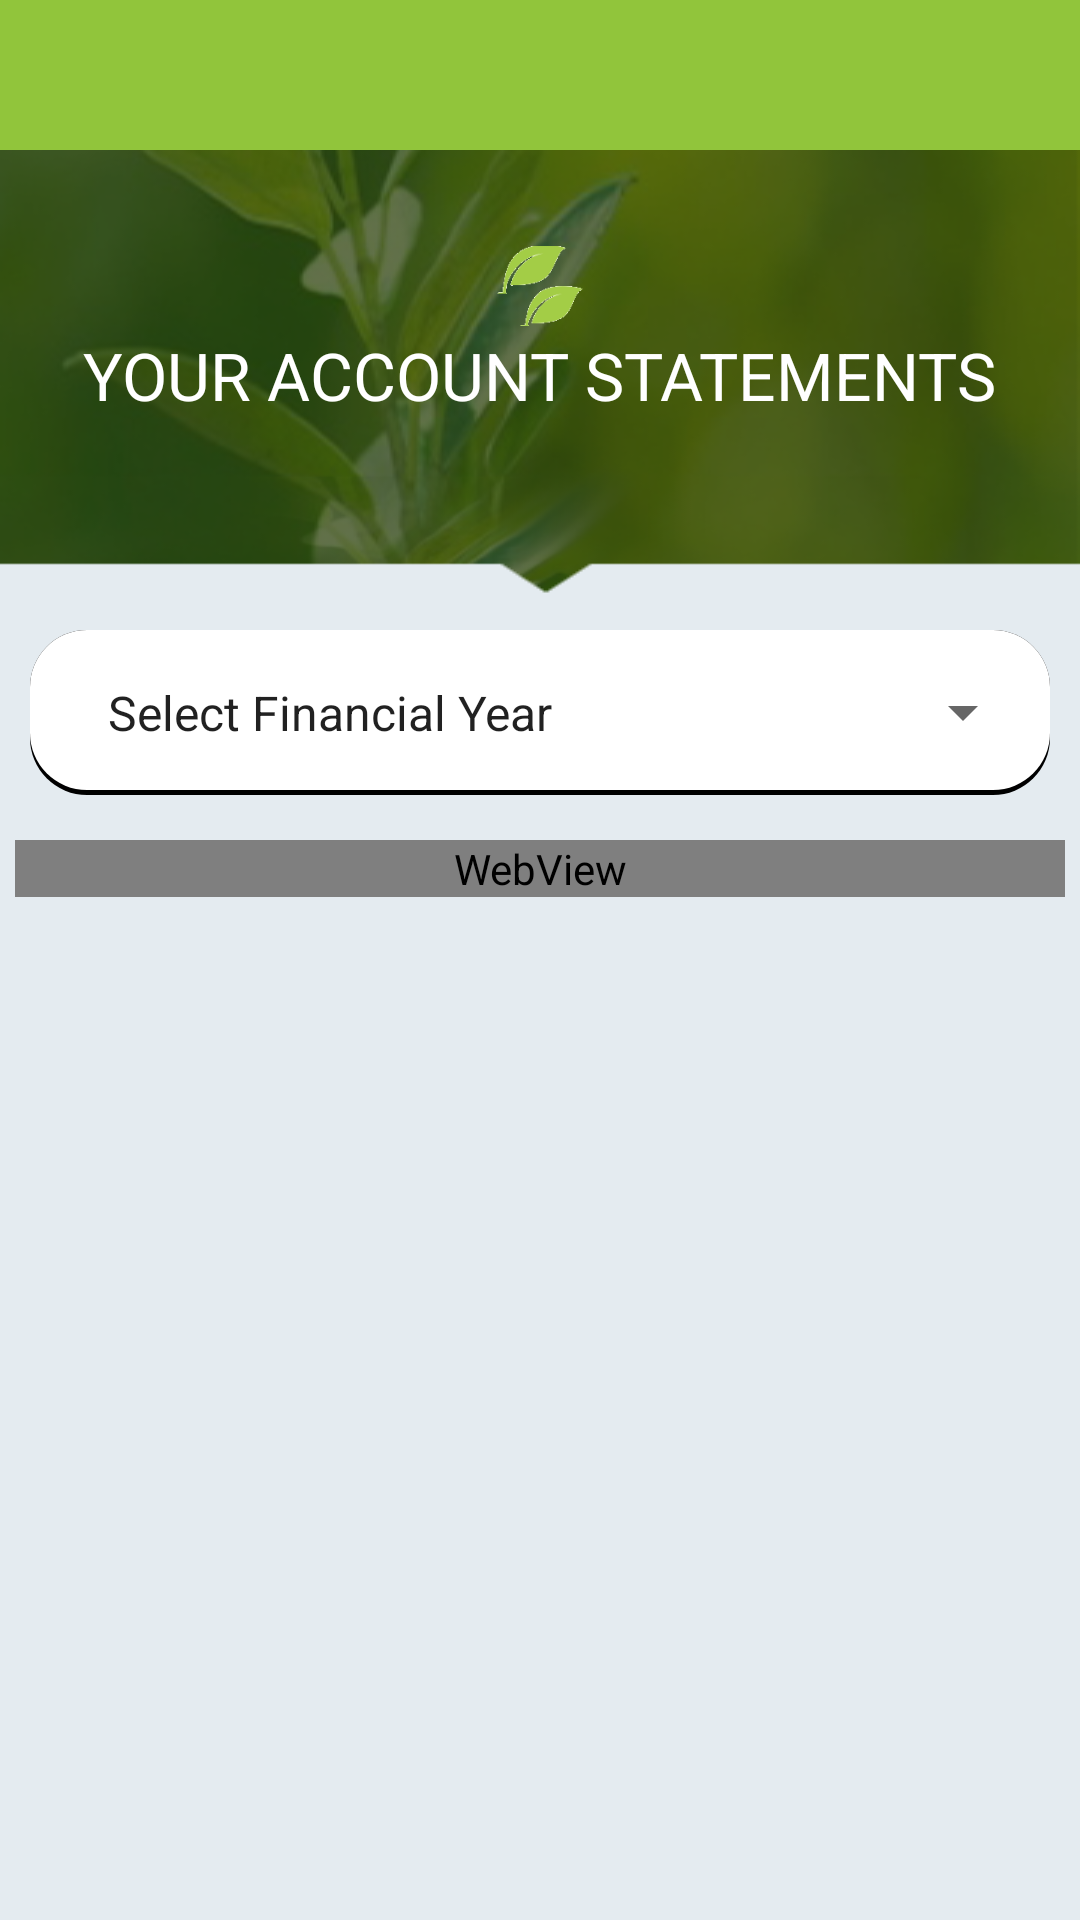

Point at icon controls on the screen. Image size 1080x1920, points as (x,y).
page nameleaf: (540,286)
